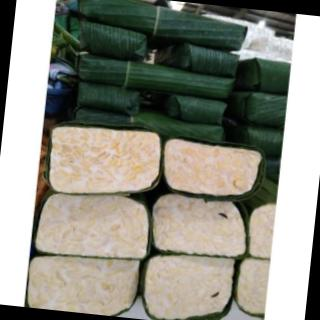Tempe: (25, 114, 281, 320)
